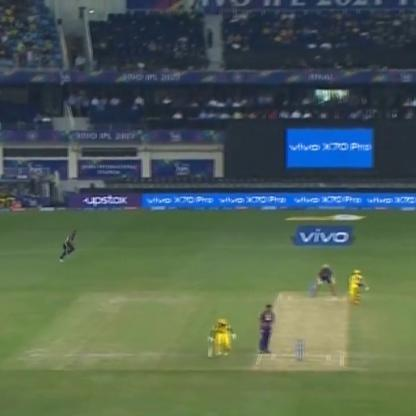pitch: (253, 287, 349, 367)
